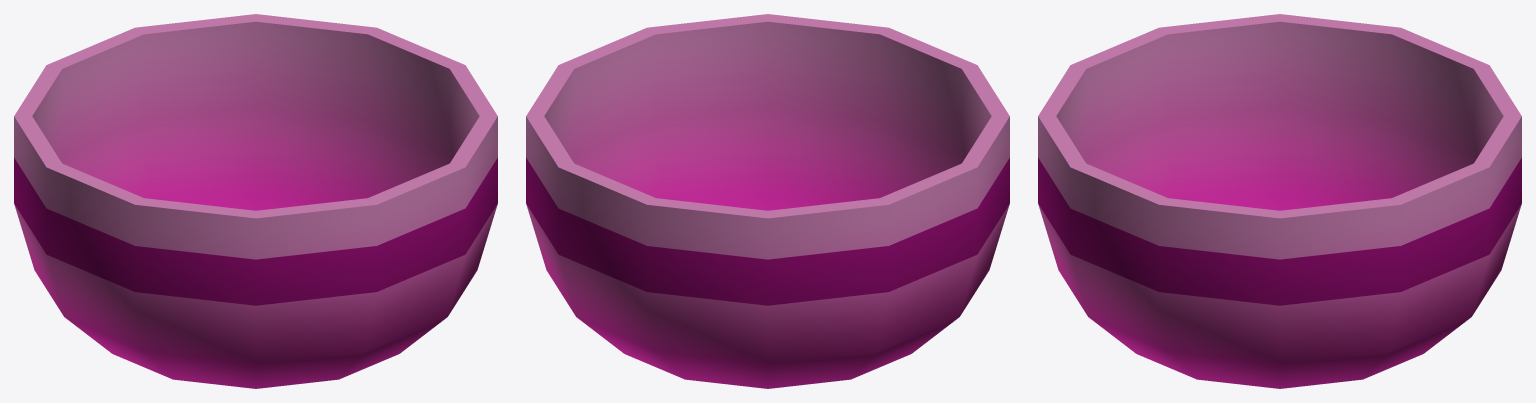
The model's file is Salad_bowl_01.fbx.
3 renders of one model, left to right at view 1: azimuth 30°, elevation 25°; view 2: azimuth 150°, elevation 25°; view 3: azimuth 270°, elevation 25°, orthographic.
Visible parts, largest first — view 1: Salad_bowl_01; view 2: Salad_bowl_01; view 3: Salad_bowl_01.
Part boxes in pixels (left/top/right/bottom): Salad_bowl_01: left=14, top=14, right=497, bottom=388; Salad_bowl_01: left=526, top=14, right=1009, bottom=388; Salad_bowl_01: left=1038, top=14, right=1521, bottom=388.
Size of the model in its own units: 80 by 80 by 40.23.
